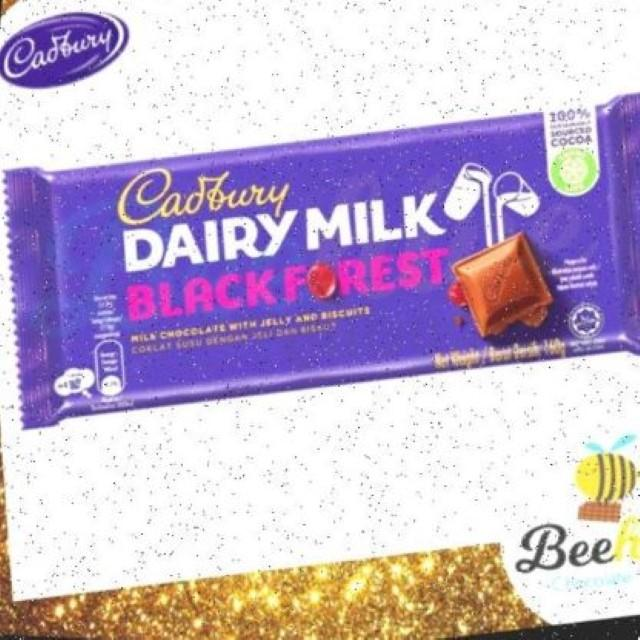cadbury_chocolate: (35, 100, 612, 438)
